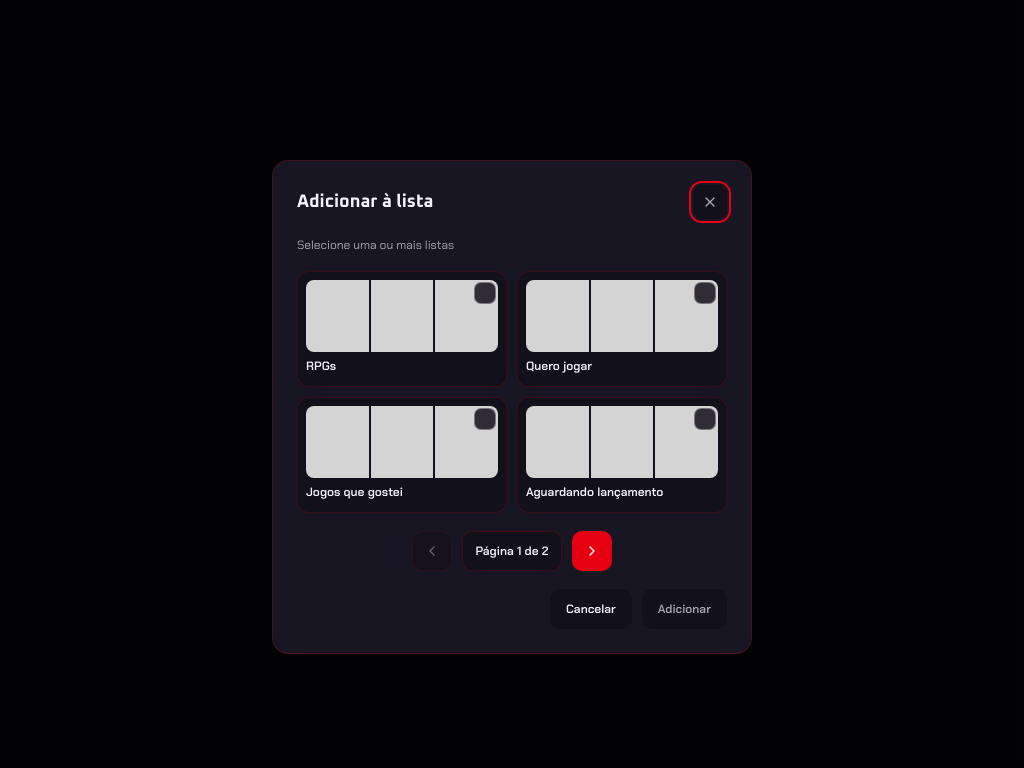
Test: AddToListsModal › repairs focus after page navigation disables the clicked endpoint control
Click the button named "Próxima página" at (592, 551), box 572,531 -> 612,571
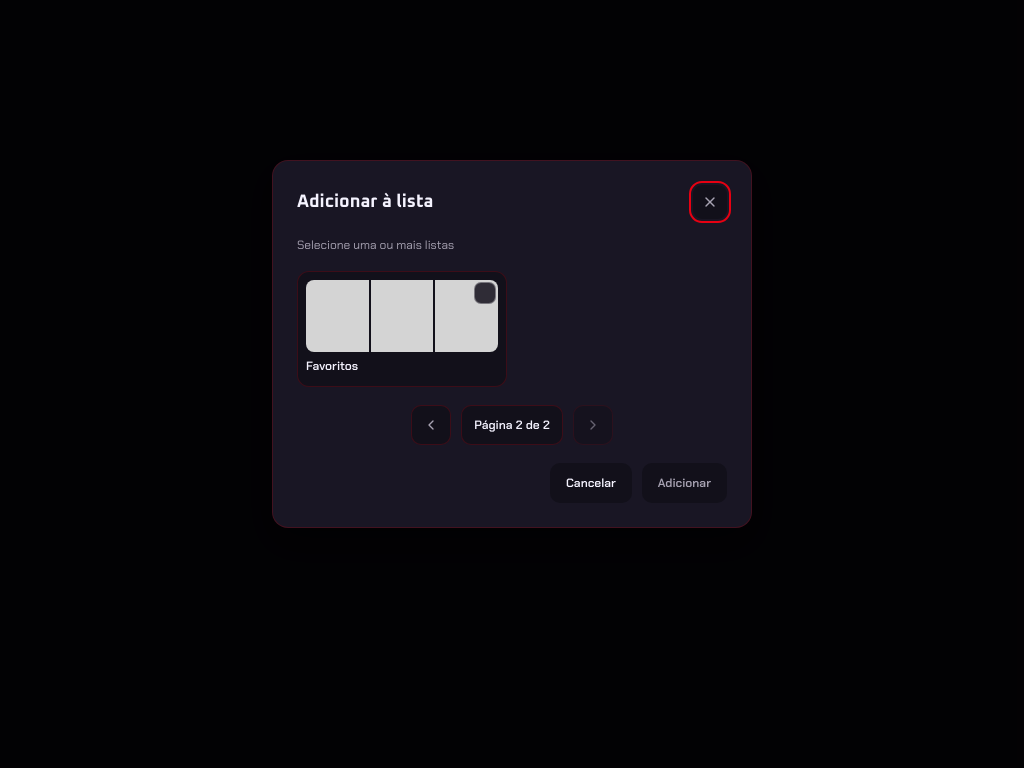
expect the button named "Próxima página" is disabled: met, box 573,405 -> 613,445
